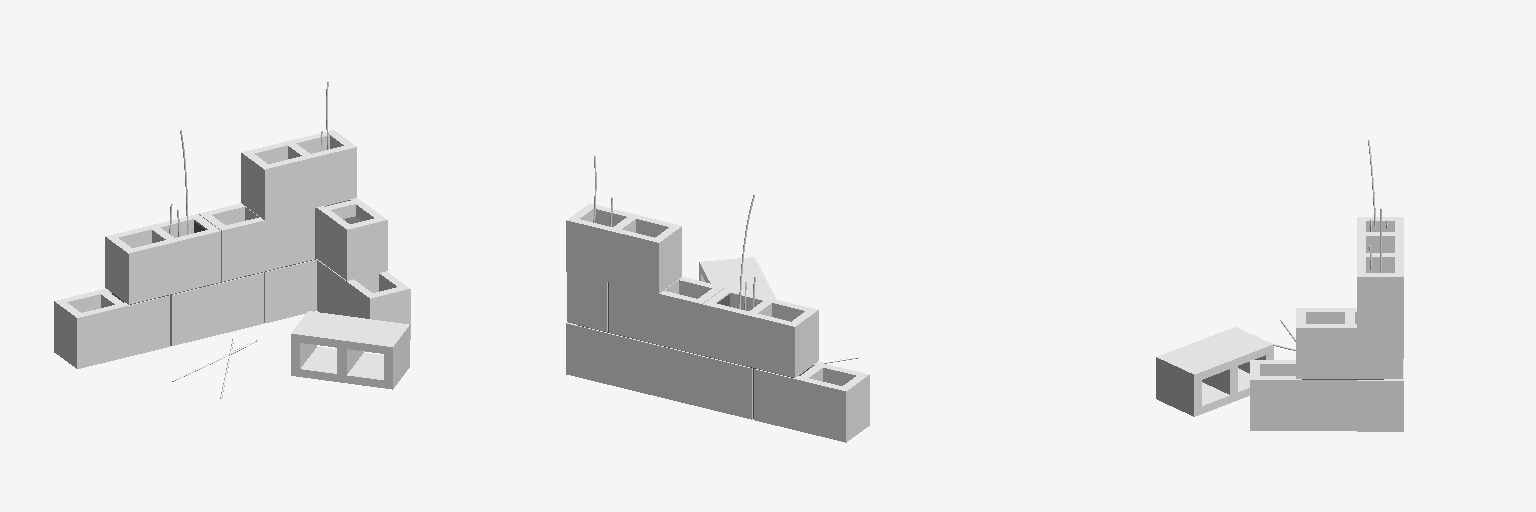
The model's file is Bloques.obj.
3 renders of one model, left to right at view 1: azimuth 30°, elevation 25°; view 2: azimuth 150°, elevation 25°; view 3: azimuth 270°, elevation 25°, orthographic.
Bounding box in the file's own units: 165 × 121 × 126.